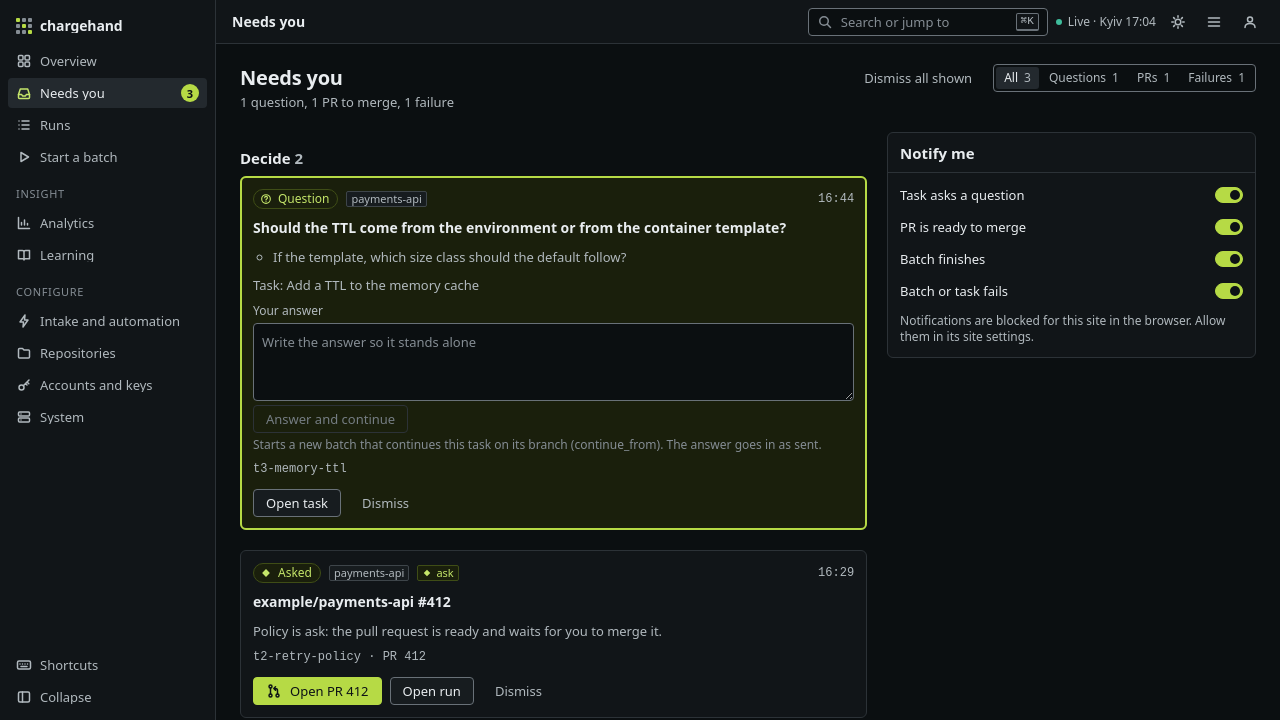
dismissing › dismisses all the items the filter shows and no others
Click the button "PRs 1" at [1154, 78], box [1129,67,1178,89]
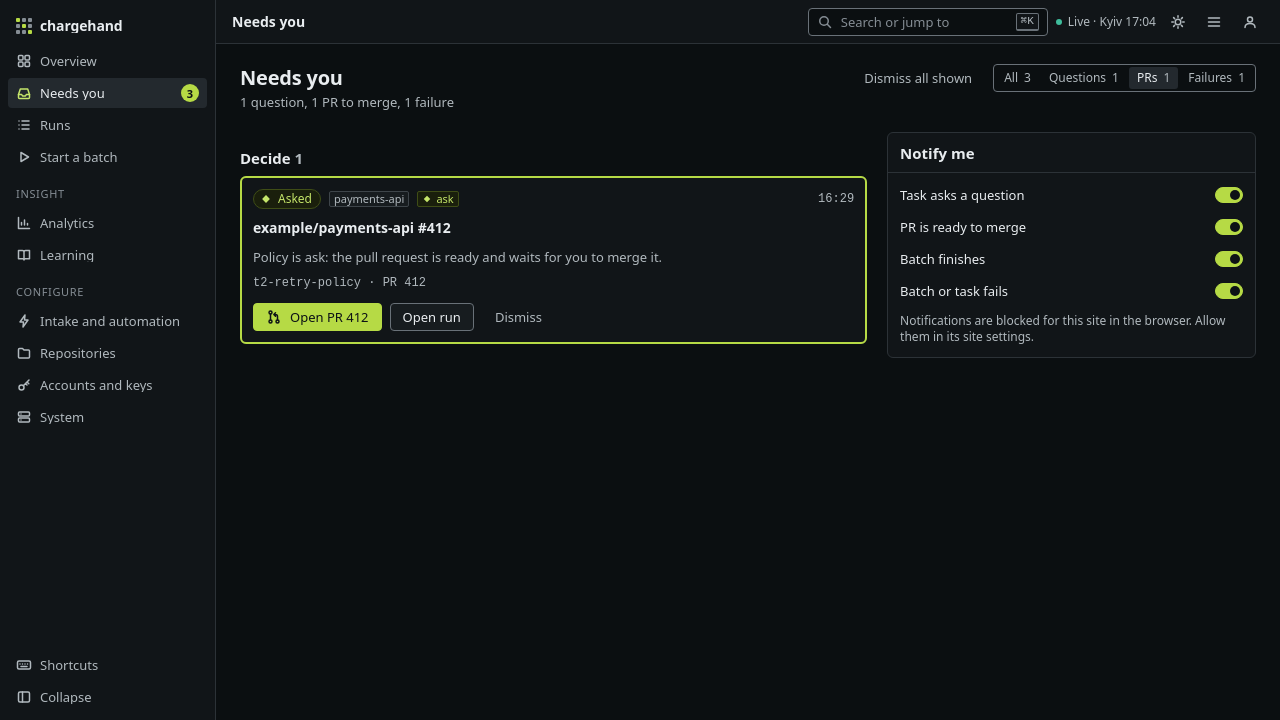
Click the button with aria-label "Dismiss all 1 shown" at [918, 78], box [851,64,985,92]
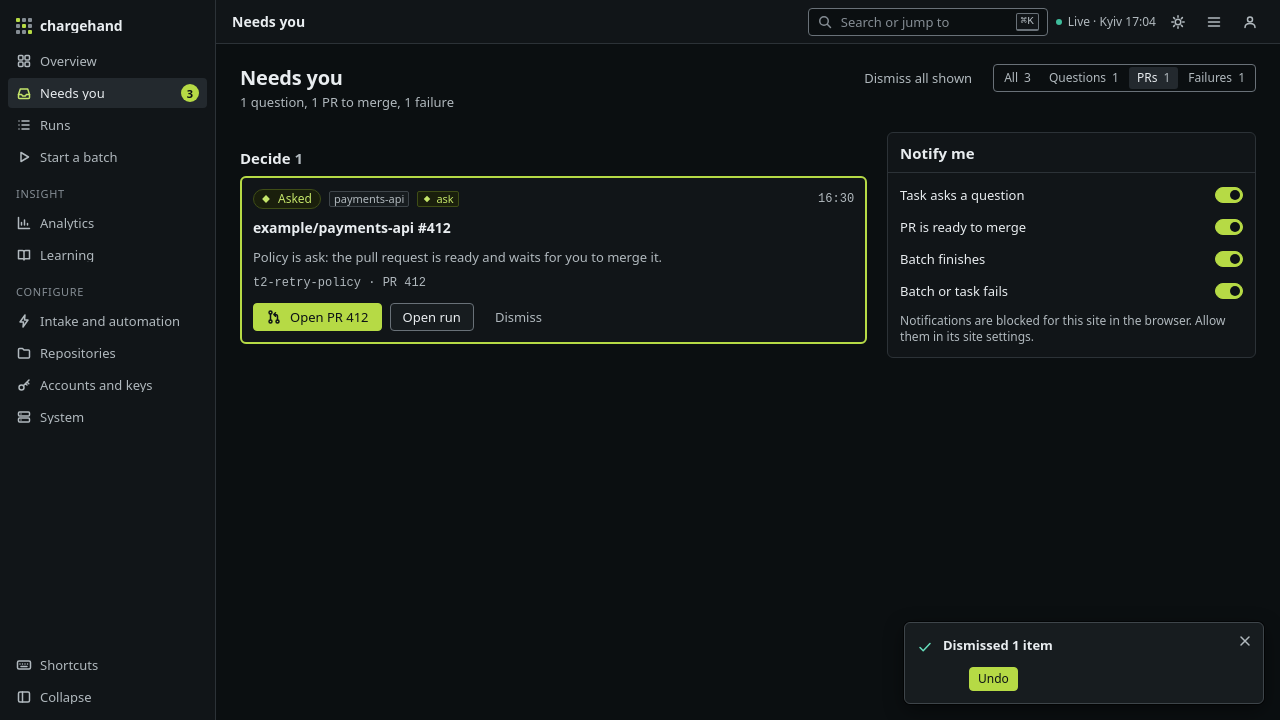
Check: the text "Dismissed 1 item" is shown, box [943,636,1053,654]
